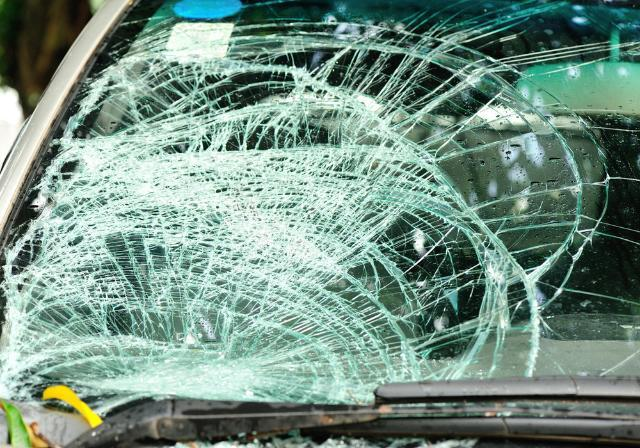glass shatter: (0, 0, 640, 412)
